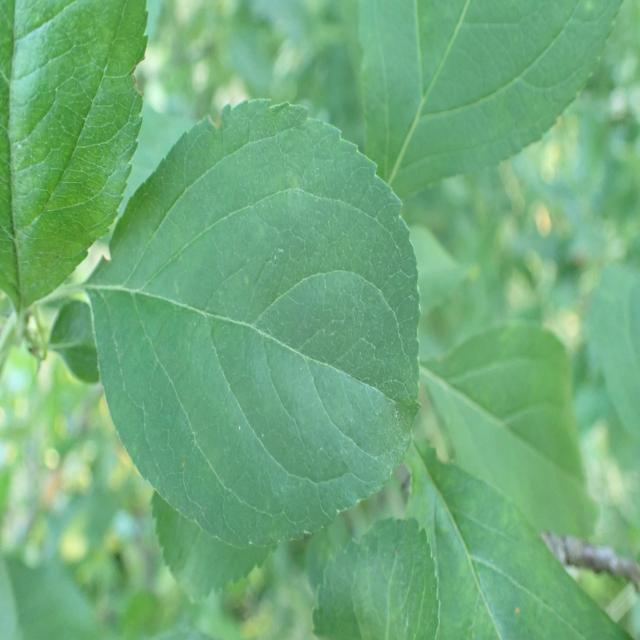healthy: (89, 98, 422, 550), (356, 0, 624, 198), (0, 1, 150, 310), (407, 440, 633, 640), (421, 322, 598, 540), (312, 516, 440, 640)
